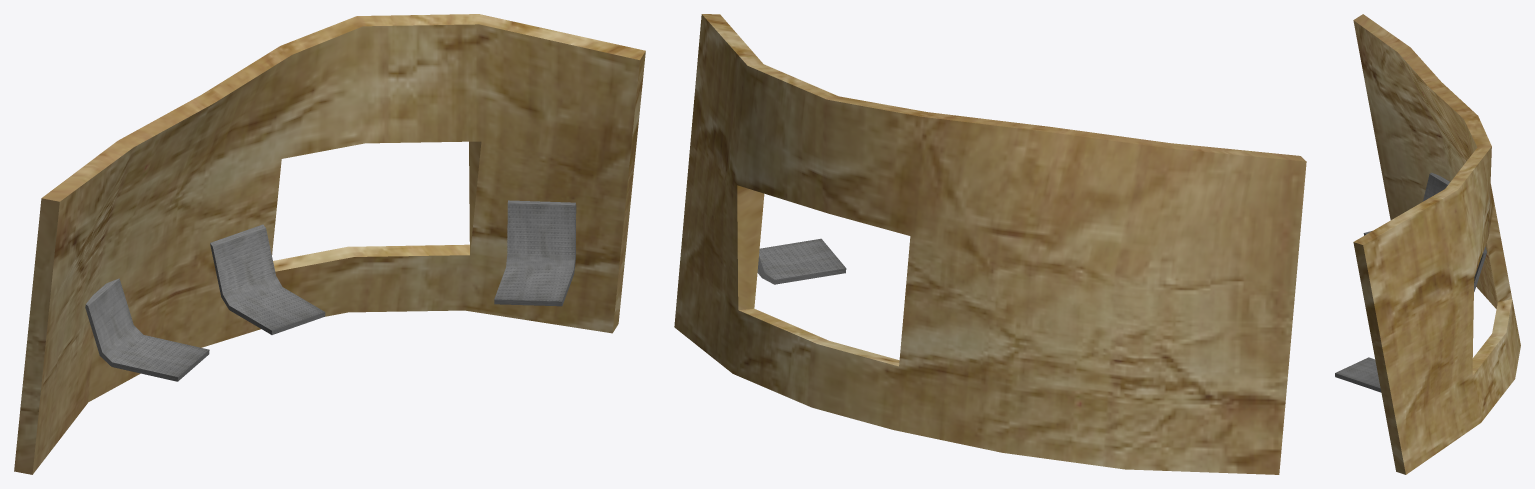
File: ArmureCartonl_A.obj
The picture shows the model from 3 angles, left to right: view 1: azimuth 30°, elevation 25°; view 2: azimuth 150°, elevation 25°; view 3: azimuth 270°, elevation 25°; orthographic projection. The views are drawn at different scales.
Parts seen in each view (by area): view 1: Armure_de_carton; view 2: Armure_de_carton; view 3: Armure_de_carton.
Boxes of the visible parts, <box> form: Armure_de_carton: <box>14,14,645,474</box>; Armure_de_carton: <box>674,14,1306,474</box>; Armure_de_carton: <box>1335,14,1520,474</box>.
Bounding box in the file's own units: 94.21 × 47.68 × 32.02.
Materials: 1 (1 with a texture image).
